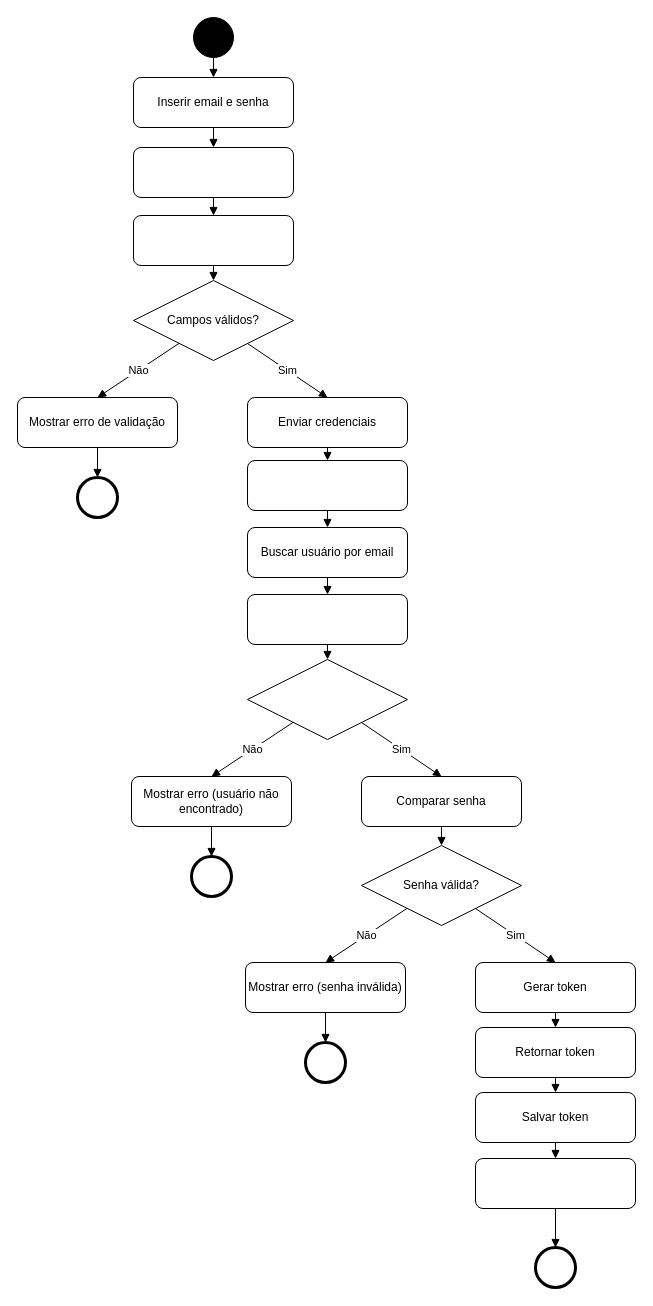
The diagram is 653 pixels wide and 1306 high, and some of its shapes have lost their labels. Here are the shapes that lost their labels. From the top down, the centre of each, then its label:
(213,172): Acionar login
(213,240): Validar campos
(327,485): Solicitar autenticação
(327,619): Retornar dados do usuário
(327,699): Usuário encontrado?
(555,1183): Login realizado
